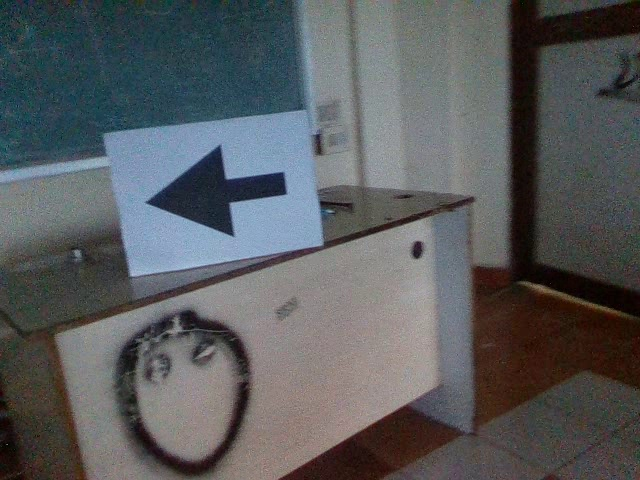Left: (135, 140, 292, 242)
